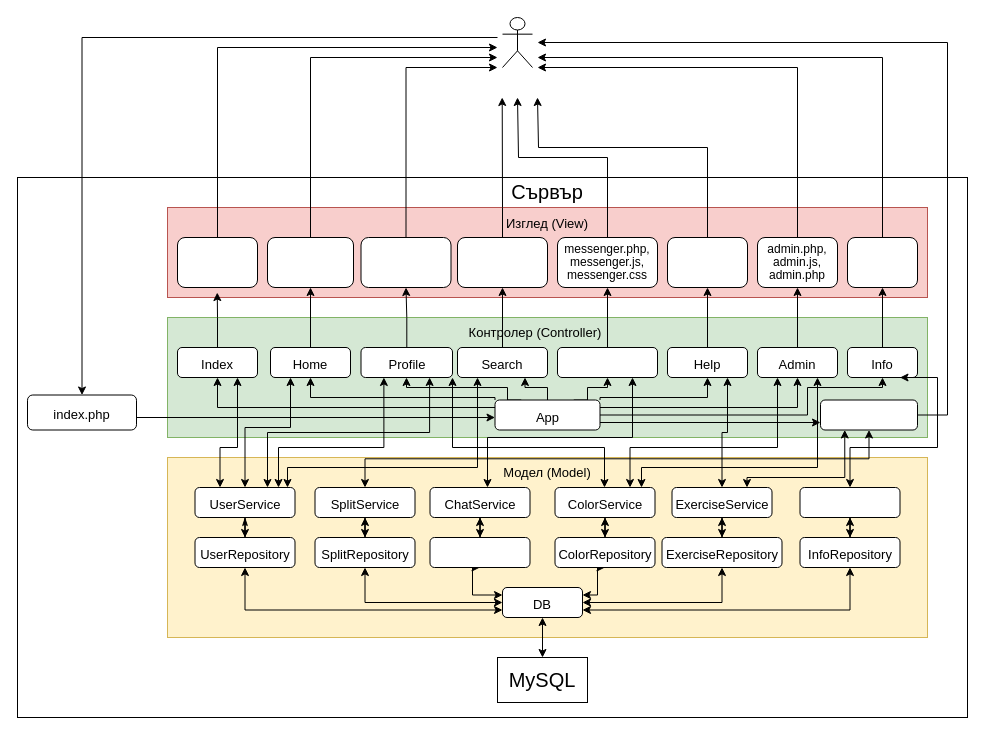
Some shapes in this 985 by 735 pixel diagram are drawn without their labels. The centre of each missing label's shape, as x and y in pixels:
ChatRepository: (x=479, y=552)
Data: (x=869, y=414)
help.php, help.js, help.css: (x=707, y=262)
home.php, home.js, home.css: (x=310, y=262)
index.php, index.js, index.css: (x=217, y=262)
info.php, info.js, info.css: (x=882, y=262)
InfoService: (x=849, y=502)
Messenger: (x=607, y=362)
profile.php, profile.js, profile.css: (x=405, y=262)
search.php, search.js, search.css: (x=502, y=262)
Клиент: (x=517, y=42)
